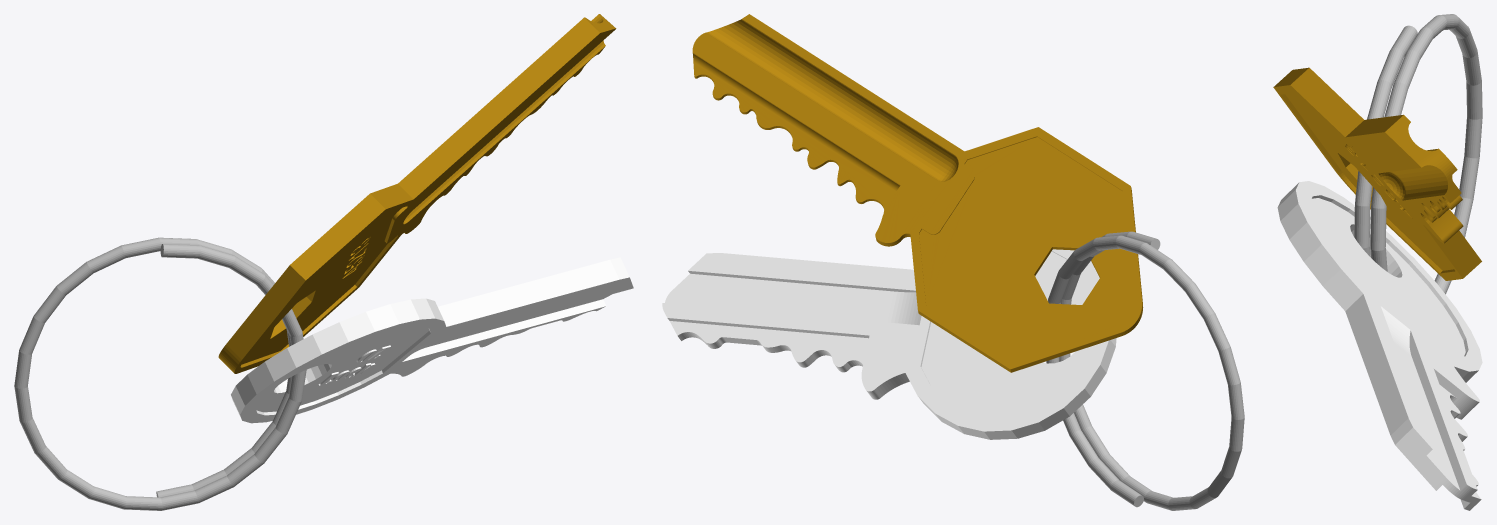
3 views of the same model, side by side, from view 1: azimuth 30°, elevation 25°; view 2: azimuth 150°, elevation 25°; view 3: azimuth 270°, elevation 25° (orthographic). The views are drawn at different scales.
Parts seen in each view (by area): view 1: keys; view 2: keys; view 3: keys.
Boxes of the visible parts, x1,y1,x2,y2 form: keys: (14, 14, 633, 510); keys: (662, 14, 1244, 510); keys: (1273, 14, 1482, 510).
Size of the model in its own units: 2.42 by 1.52 by 0.6331.
